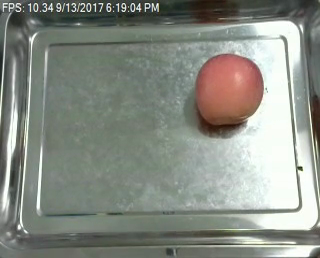Apple: (190, 54, 267, 127)
